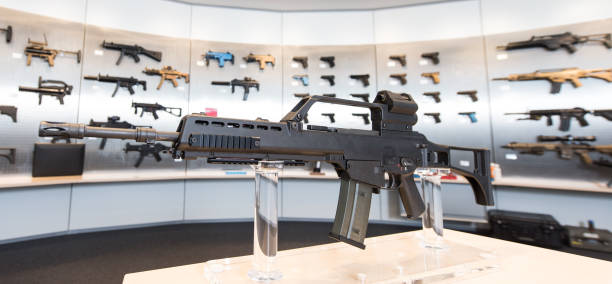pistol: (456, 109, 483, 126), (348, 71, 374, 88), (317, 52, 340, 71), (289, 72, 315, 88), (420, 49, 443, 67), (350, 109, 373, 127), (457, 88, 481, 105), (419, 70, 446, 85), (386, 52, 410, 68), (425, 108, 445, 127), (423, 88, 445, 104), (292, 53, 310, 72), (319, 111, 340, 126), (350, 91, 373, 103)
rifle: (35, 87, 511, 244), (504, 130, 612, 166), (504, 103, 612, 132), (498, 67, 612, 92), (497, 32, 612, 56), (96, 37, 165, 67), (22, 35, 86, 67), (82, 71, 151, 96), (210, 75, 266, 101), (143, 64, 195, 90), (243, 49, 279, 73), (202, 48, 241, 69)
